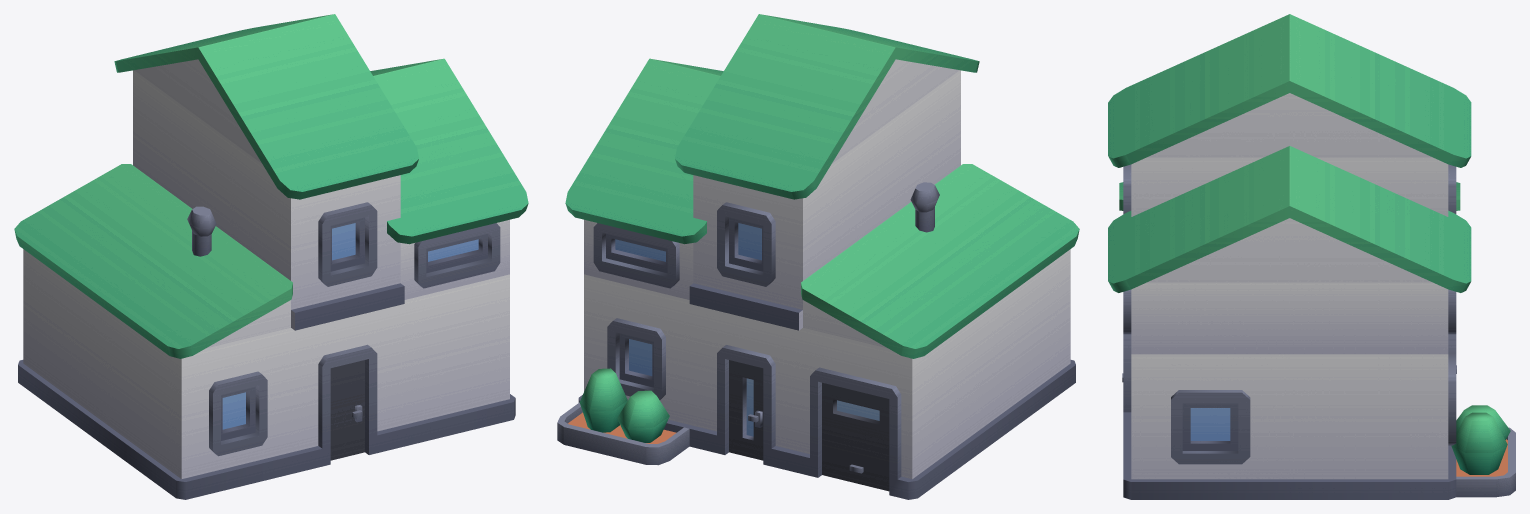
The model's file is house_c.glb.
3 renders of one model, left to right at view 1: azimuth 30°, elevation 25°; view 2: azimuth 150°, elevation 25°; view 3: azimuth 270°, elevation 25°, orthographic.
Parts seen in each view (by area): view 1: building-type-c; view 2: building-type-c; view 3: building-type-c.
Boxes of the visible parts, x1,y1,x2,y2 form: building-type-c: [14, 14, 528, 499]; building-type-c: [557, 14, 1079, 499]; building-type-c: [1108, 14, 1515, 499].
Bounding box in the file's own units: 15 × 15 × 15.
1 material, 1 textured.
